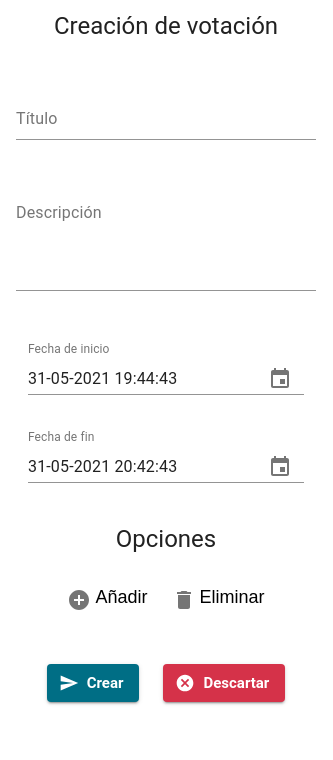
Scenario: Testing create voting › Inputs without options incorrect
Clear the field with id "opening" at (138, 379), box [28, 363, 248, 395]
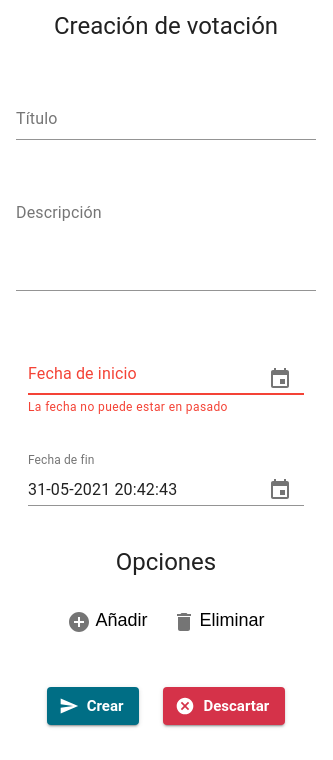
Result: the text "La fecha no puede estar en pasado" is shown at [28, 400, 228, 414]
Type "04-01-2021 11:57:34" into the field with id "opening" at (138, 379), box [28, 363, 248, 395]
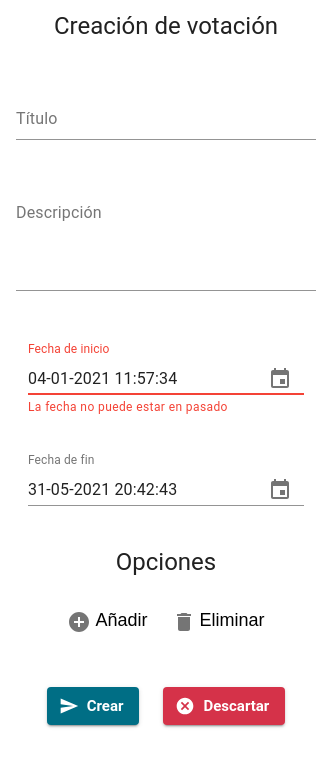
Result: the text "La fecha no puede estar en pasado" is shown at [28, 400, 228, 414]
Replace the text in the field with id "closing" with "05-01-2021 12:50:38" at (138, 490), box [28, 474, 248, 506]
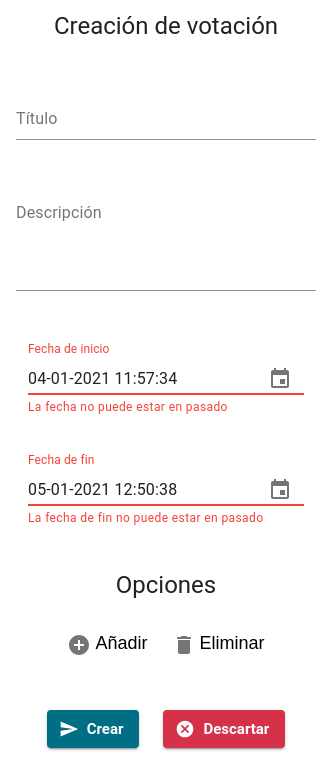
Result: the text "La fecha de fin no puede estar en pasado" is shown at [28, 509, 304, 529]
Replace the text in the field with id "closing" with "01-01-2021 12:50:38" at (138, 490), box [28, 474, 248, 506]
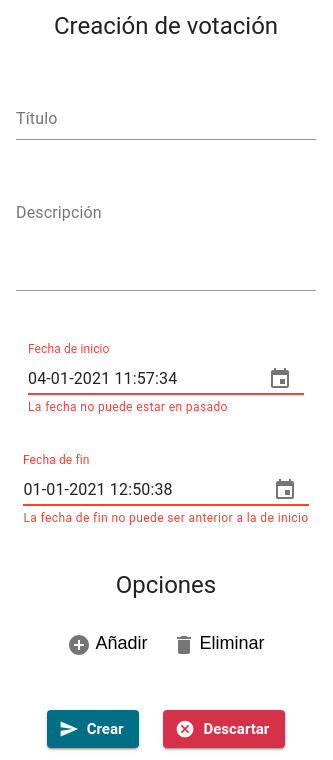
Result: the text "La fecha de fin no puede ser anterior a la de inicio" is shown at [24, 509, 309, 529]
